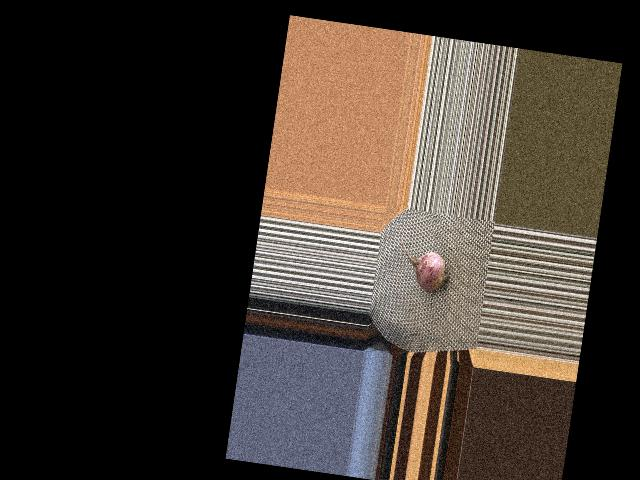beet: (392, 229, 455, 295)
